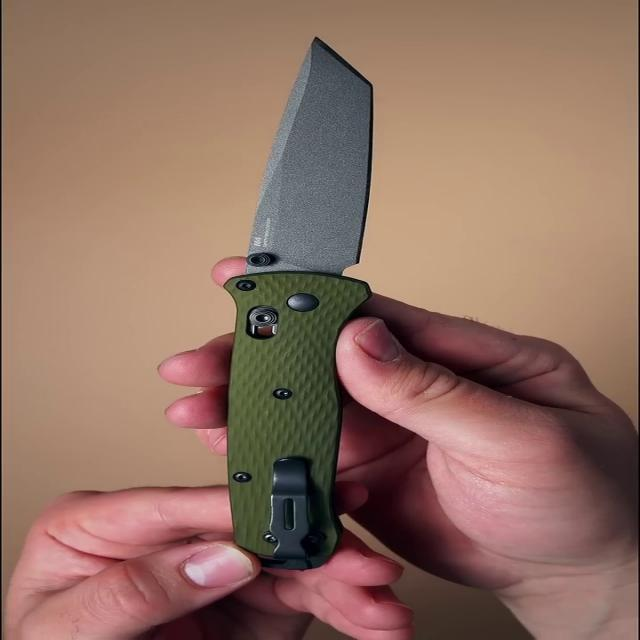Knife: (211, 25, 393, 591)
